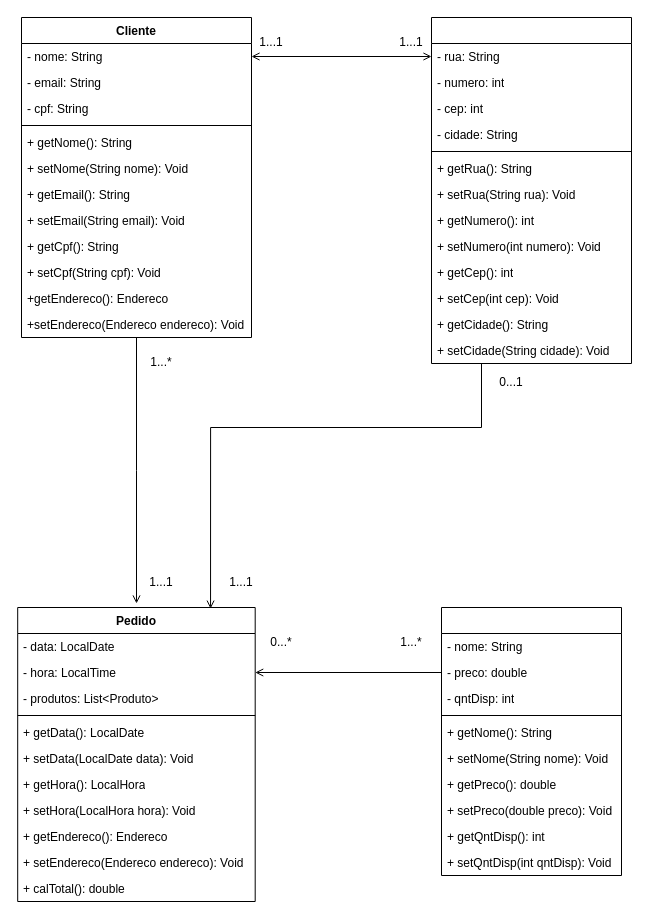
The diagram is 649 pixels wide and 922 high, and some of its shapes have lost their labels. Here are the shapes that lost their labels. From the top down, the box of each, then its label:
(430, 16, 632, 364): Endereco
(440, 606, 622, 876): Produto
